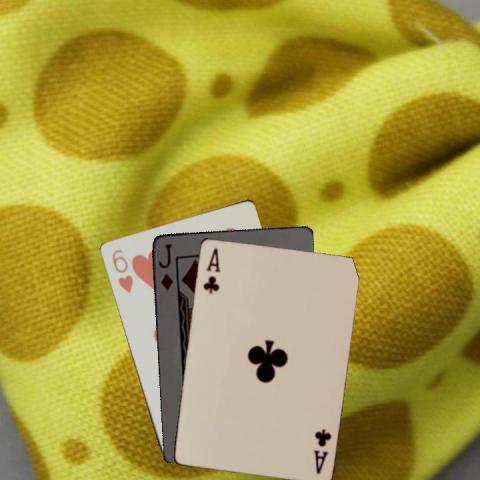6h: (108, 246, 134, 295)
Ac: (200, 244, 222, 295), (310, 425, 332, 475)
Jd: (154, 240, 178, 293)
